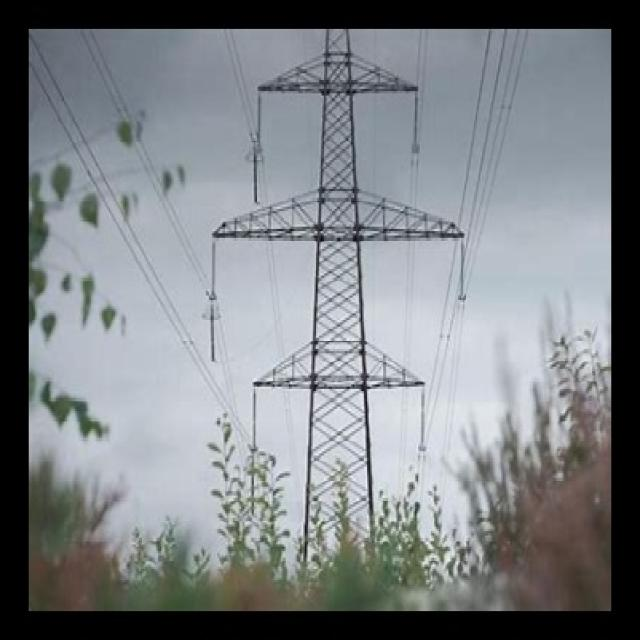utility poles: (214, 357, 471, 600)
